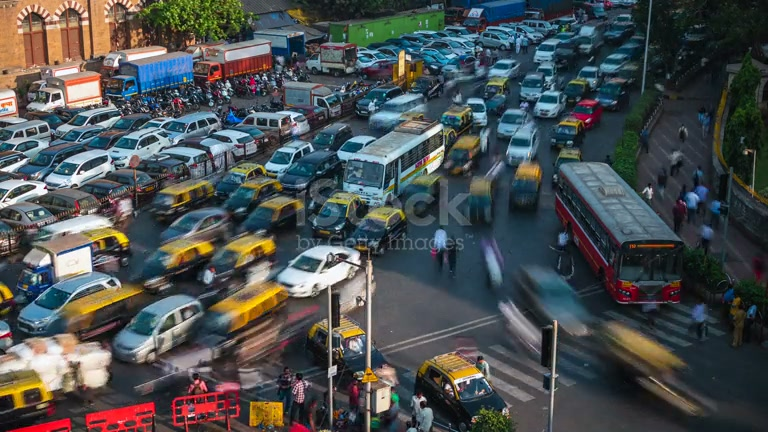bus: (552, 160, 686, 308), (342, 113, 444, 210), (192, 39, 274, 85)
car: (497, 262, 601, 367), (13, 270, 145, 345), (413, 350, 509, 425), (110, 291, 207, 365), (274, 243, 364, 299), (198, 230, 279, 289), (140, 237, 215, 293), (344, 205, 409, 256), (39, 148, 114, 191), (156, 208, 236, 247), (277, 149, 342, 193), (236, 193, 302, 235), (262, 139, 316, 178), (509, 159, 543, 212), (442, 132, 482, 176), (504, 123, 541, 167), (496, 108, 530, 141), (549, 118, 583, 148), (533, 92, 567, 120)
pedestrian: (689, 299, 709, 341), (730, 299, 746, 348), (415, 397, 434, 432)
